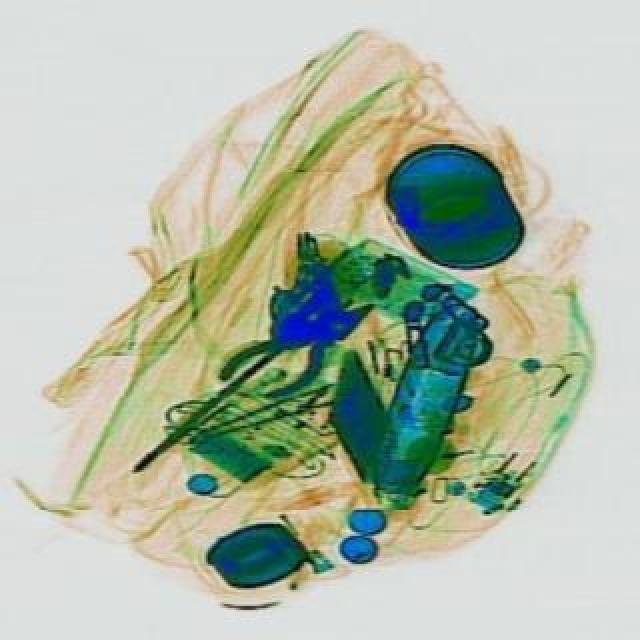wrench: (208, 278, 390, 422)
